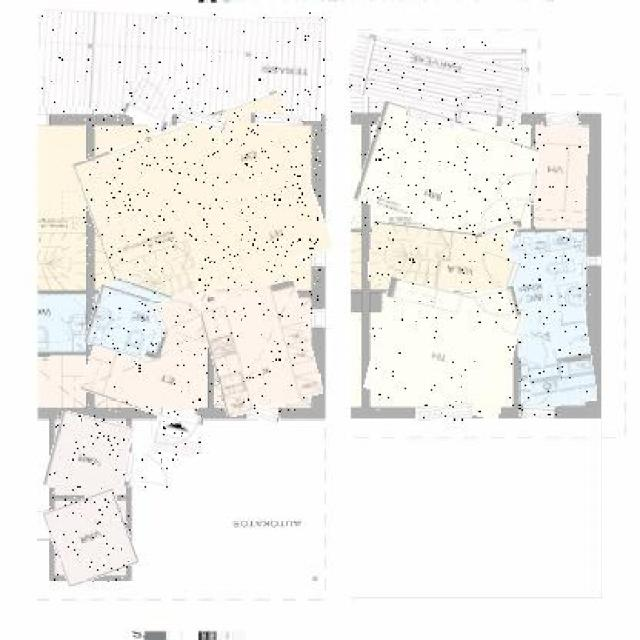door: (125, 75, 180, 128), (154, 408, 201, 455), (468, 197, 518, 240), (459, 80, 506, 125), (149, 294, 200, 334), (123, 456, 174, 492), (476, 252, 522, 285), (474, 289, 518, 323), (496, 170, 538, 202), (520, 334, 554, 366)
window: (177, 110, 226, 128), (416, 405, 472, 420), (406, 108, 456, 124), (543, 112, 580, 128), (251, 114, 303, 125), (518, 406, 557, 419), (252, 406, 280, 423)
zone: (83, 108, 322, 304), (38, 12, 324, 117), (360, 112, 538, 238), (369, 284, 518, 414), (88, 286, 210, 416), (206, 286, 317, 412), (349, 42, 528, 118), (514, 232, 591, 406), (369, 226, 517, 294), (49, 494, 132, 581), (49, 416, 129, 498), (535, 121, 588, 228), (89, 290, 157, 356)
